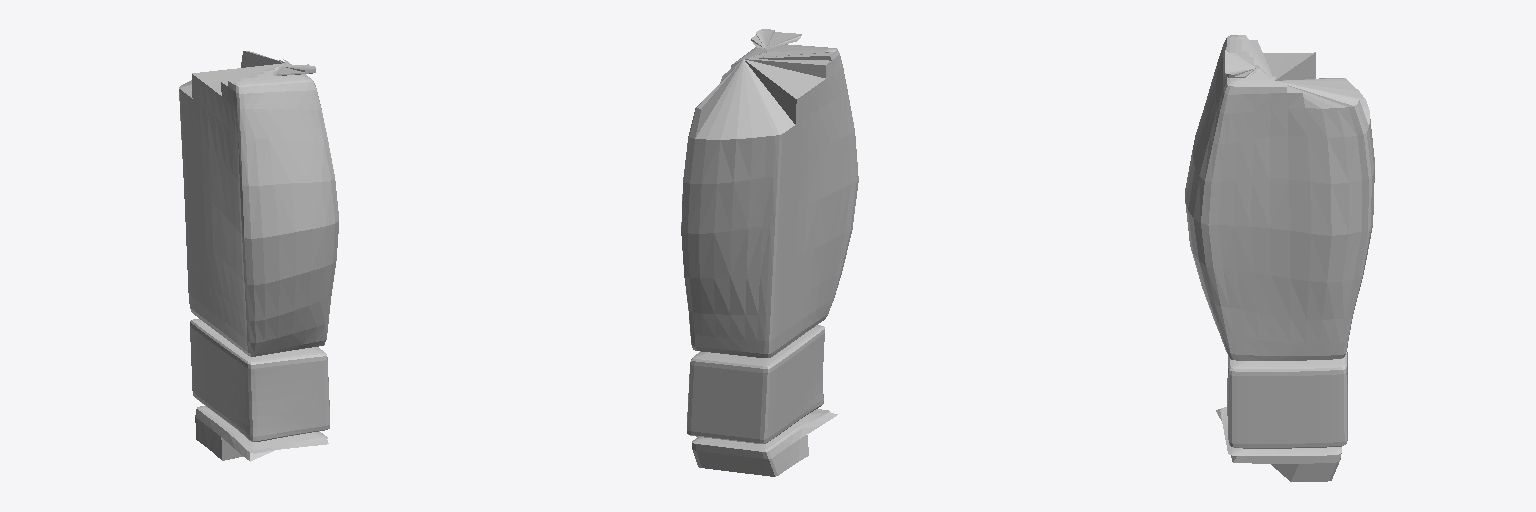
Rendered from Brazo Derecho.obj.
3 views of the same model, side by side, from view 1: azimuth 30°, elevation 25°; view 2: azimuth 150°, elevation 25°; view 3: azimuth 270°, elevation 25° (orthographic).
Visible parts, largest first — view 1: Cyborg.Mesh_Cube; view 2: Cyborg.Mesh_Cube; view 3: Cyborg.Mesh_Cube.
Boxes of the visible parts, box(x1,y1,x2,y2) form: Cyborg.Mesh_Cube: box(179, 51, 338, 461); Cyborg.Mesh_Cube: box(681, 29, 858, 476); Cyborg.Mesh_Cube: box(1185, 35, 1374, 481).
Size of the model in its own units: 0.5945 by 2.25 by 0.9556.